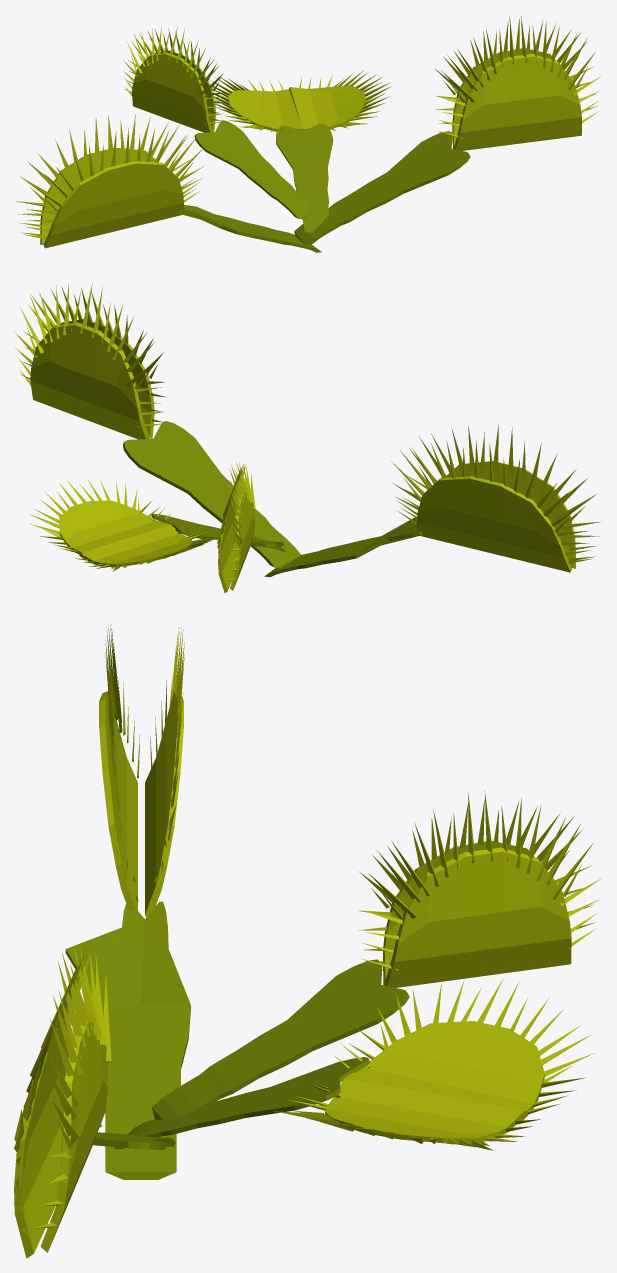
File: venus flytrap.gltf
The picture shows the model from 3 angles, top to bottom: view 1: azimuth 30°, elevation 25°; view 2: azimuth 150°, elevation 25°; view 3: azimuth 270°, elevation 25°; orthographic projection. The views are drawn at different scales.
Visible parts, largest first — view 1: Cone.014, Cone.037, Cone.003, Cone.013, Cone.012, Cone.007, Cone.010, Plane.003, Cone.002, Cone.001, Cone.006, Cone.011; view 2: Cone.007, Cone.001, Cone.013, Plane.003, Cone.037, Cone.002, Cone.014, Cone.006, Cone.003, Cone.011, Cone.012; view 3: Cone.011, Cone.006, Cone.002, Cone.010, Cone.001, Plane.003, Cone.014, Cone.037, Cone.007, Cone.012, Cone.003, Cone.013.
Boxes of the visible parts, left/top/right/bottom form: Cone.014: left=438, top=15, right=601, bottom=150; Cone.037: left=22, top=128, right=205, bottom=248; Cone.003: left=123, top=26, right=223, bottom=132; Cone.013: left=294, top=131, right=470, bottom=245; Cone.012: left=276, top=123, right=333, bottom=233; Cone.007: left=16, top=114, right=196, bottom=244; Cone.010: left=194, top=120, right=309, bottom=219; Plane.003: left=289, top=70, right=391, bottom=131; Cone.002: left=210, top=76, right=302, bottom=132; Cone.001: left=434, top=19, right=597, bottom=148; Cone.006: left=177, top=205, right=321, bottom=252; Cone.011: left=124, top=28, right=223, bottom=132; Cone.007: left=391, top=440, right=593, bottom=572; Cone.001: left=15, top=283, right=166, bottom=439; Cone.013: left=123, top=421, right=300, bottom=568; Plane.003: left=29, top=479, right=170, bottom=556; Cone.037: left=400, top=424, right=601, bottom=568; Cone.002: left=75, top=523, right=218, bottom=571; Cone.014: left=20, top=286, right=166, bottom=438; Cone.006: left=264, top=516, right=422, bottom=577; Cone.003: left=225, top=462, right=255, bottom=590; Cone.011: left=217, top=464, right=245, bottom=592; Cone.012: left=151, top=514, right=286, bottom=551; Cone.011: left=361, top=790, right=601, bottom=987; Cone.006: left=65, top=901, right=190, bottom=1179; Cone.002: left=334, top=978, right=594, bottom=1120; Cone.010: left=152, top=959, right=409, bottom=1120; Cone.001: left=33, top=946, right=111, bottom=1252; Plane.003: left=273, top=1078, right=540, bottom=1150; Cone.014: left=14, top=951, right=89, bottom=1258; Cone.037: left=99, top=624, right=139, bottom=910; Cone.007: left=145, top=626, right=184, bottom=916; Cone.012: left=114, top=1057, right=370, bottom=1148; Cone.003: left=358, top=799, right=595, bottom=985; Cone.013: left=93, top=1132, right=175, bottom=1149.
Bounding box in the file's own units: 7.94 × 2.78 × 3.75.
